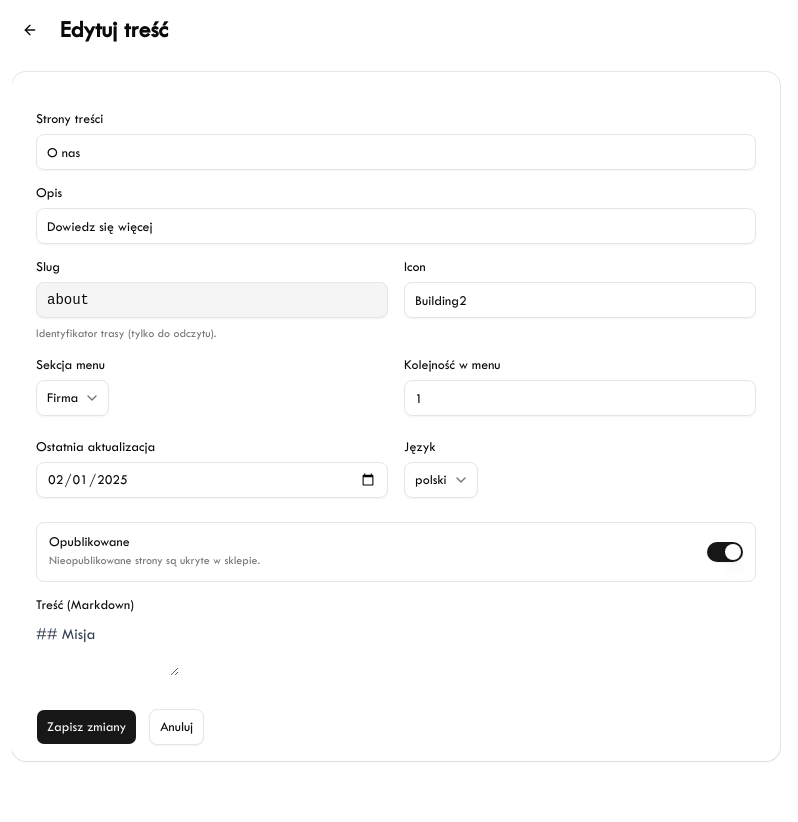
Test: ContentEditPage › shows an error message when the update fails
Step 1. Click the button "Zapisz zmiany" → (87, 727), box [36, 709, 137, 745]
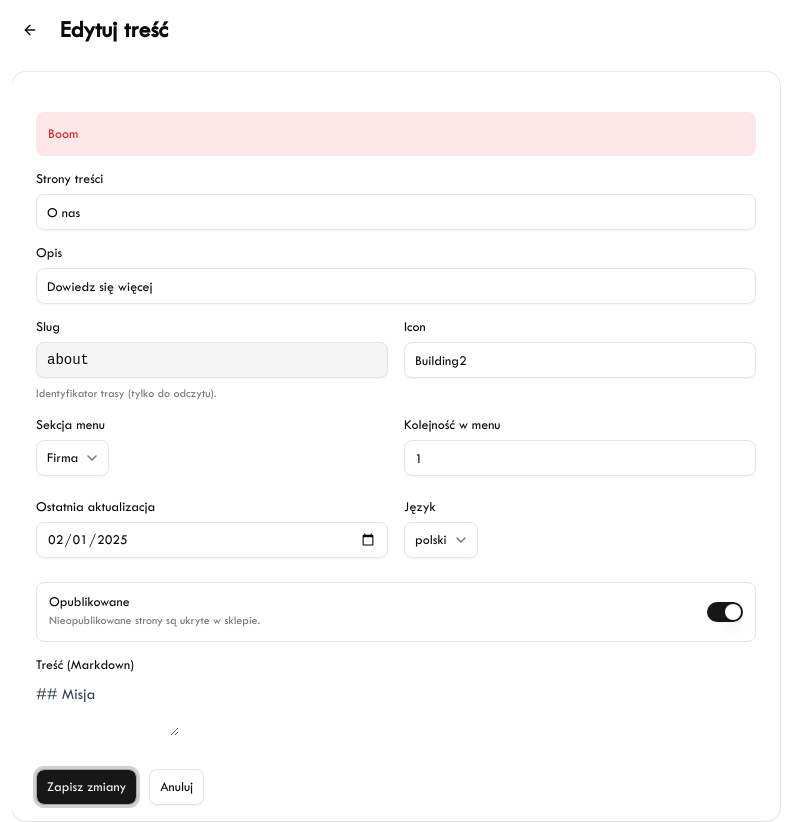
Expected: the text "Boom" is shown, [36, 112, 756, 156]
